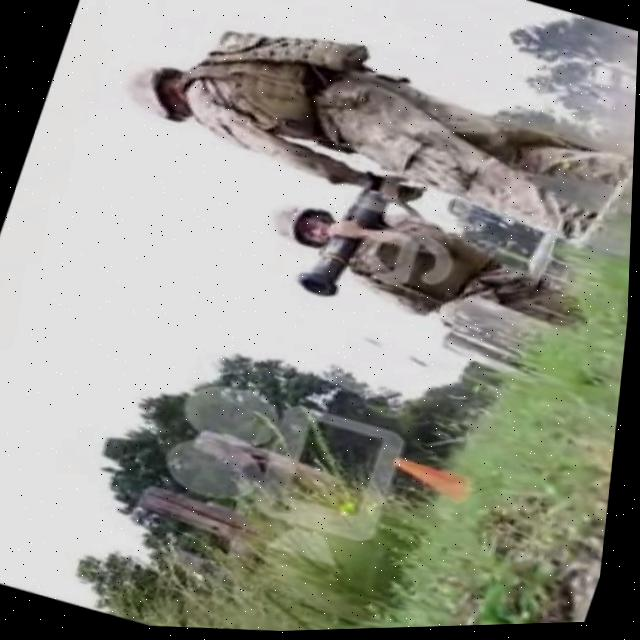rocket: (291, 160, 397, 311)
